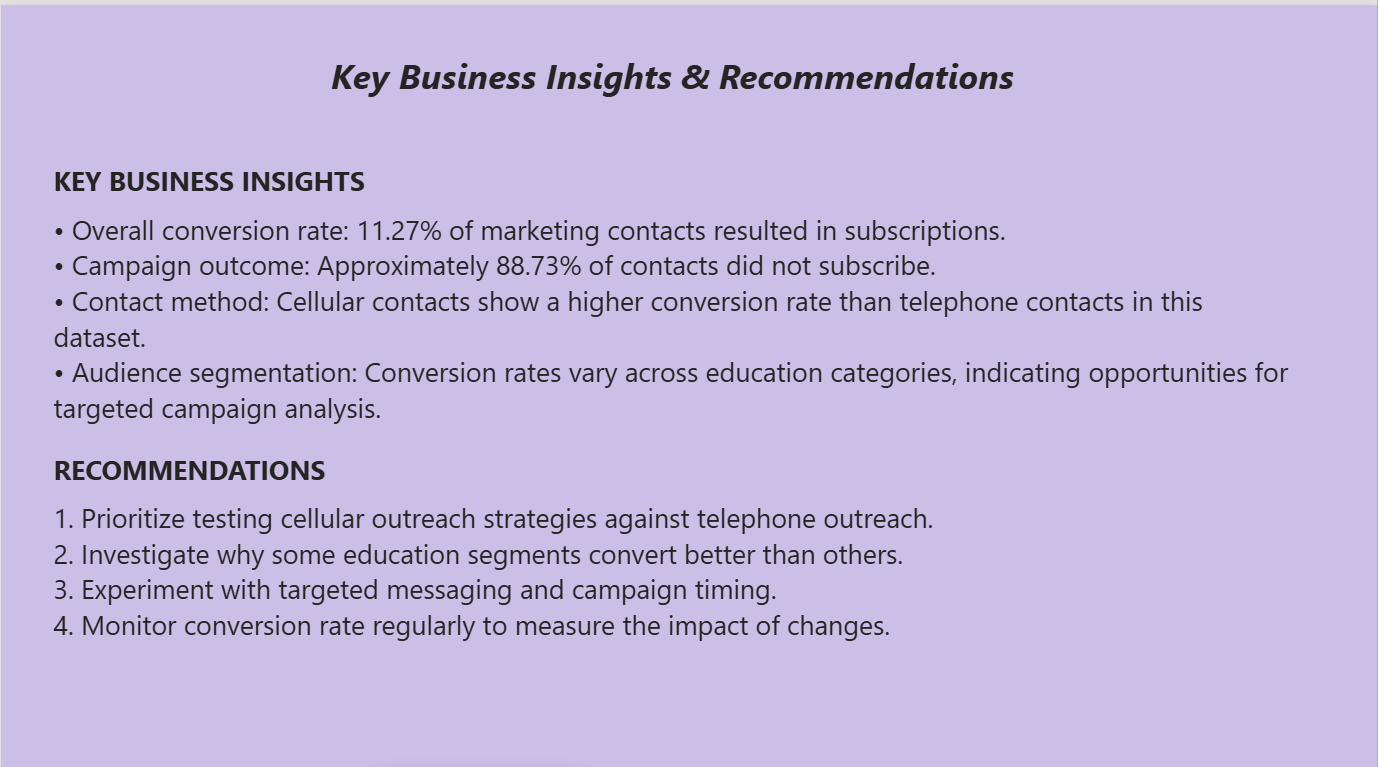

This screenshot's page, from the dashboard's own definition file:
{"tool":"powerbi","page":{"name":"Insights & Recommendations","canvas":[1920,1080],"ordinal":1},"visuals":[{"type":"textbox","box":[72.5,220,1727.5,695],"z":0},{"type":"textbox","box":[72.5,65,1727.5,95],"z":1}]}

Visuals, with their boxes in screenshot pixels (x1, y1, x2, y2), scaled from the page's 1920x1080 canvas onto the 1380x767 screenshot:
textbox: x1=52 y1=156 x2=1294 y2=650
textbox: x1=52 y1=46 x2=1294 y2=114
